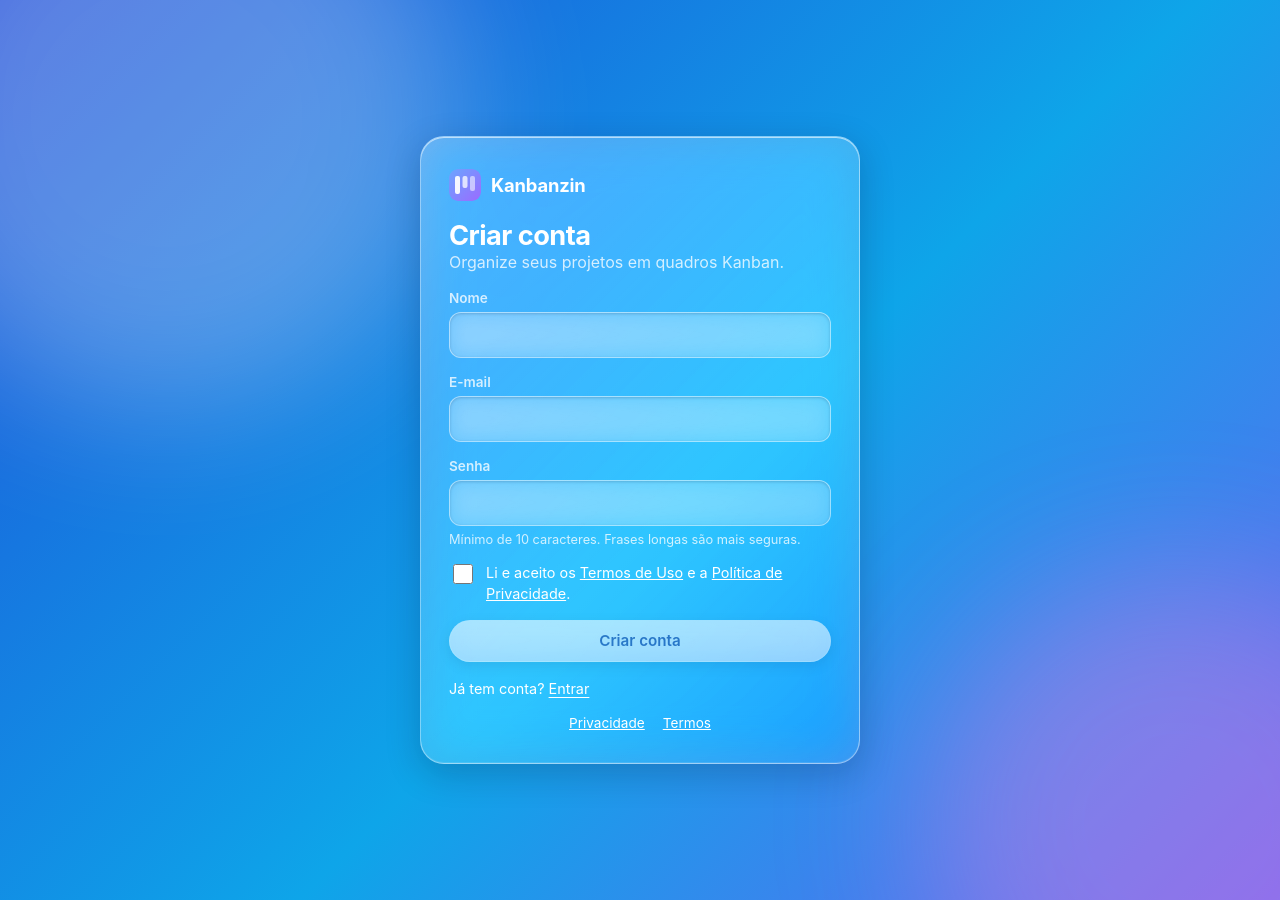
Scenario: auth pages › requires accepting the terms before registering
Expected: the button "Criar conta" is disabled, [449,620,831,662]
Click the checkbox: click(463, 574) [453,564,473,584]
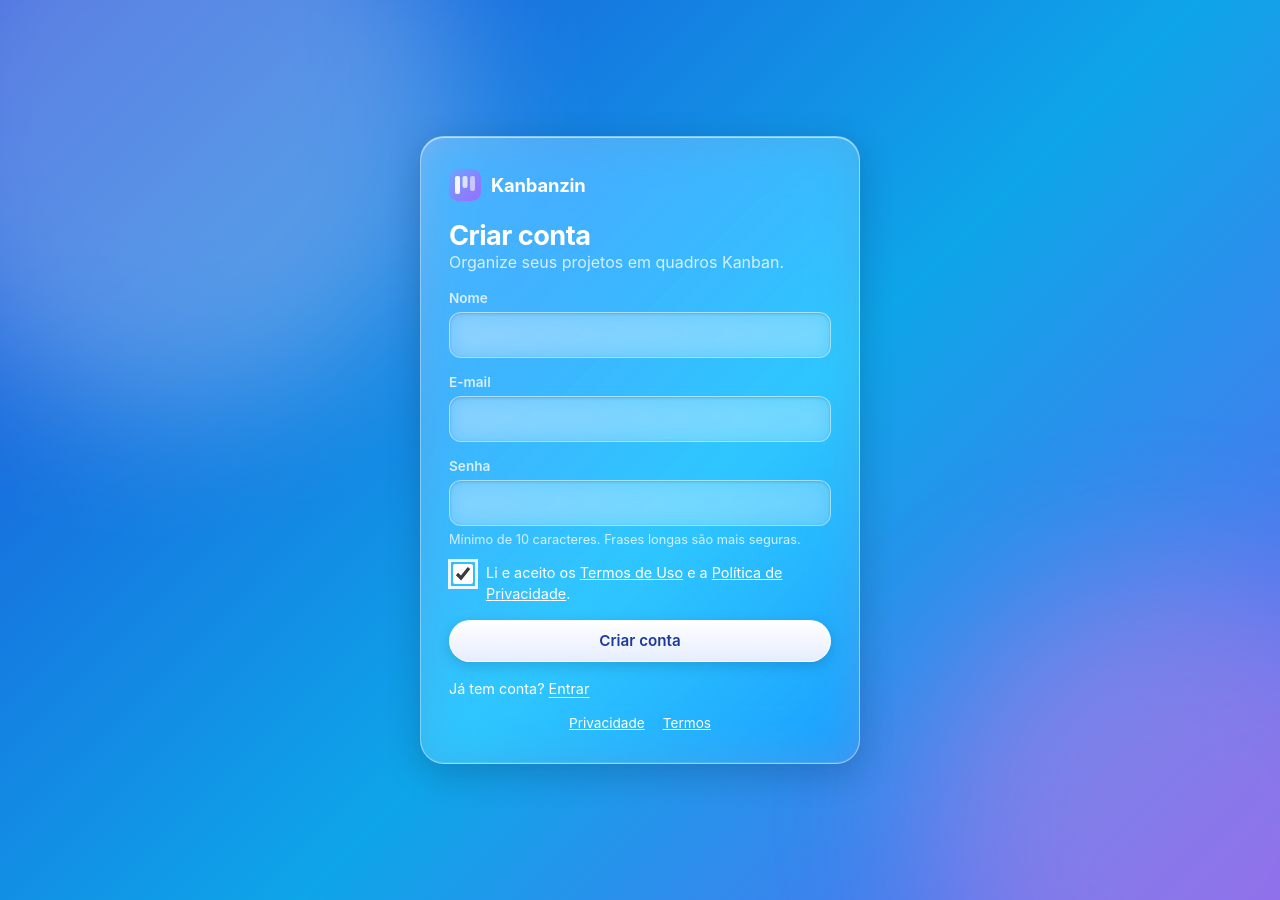
Expected: the button "Criar conta" is enabled, [449,620,831,662]
